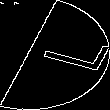L_W: (13, 32, 97, 78)
